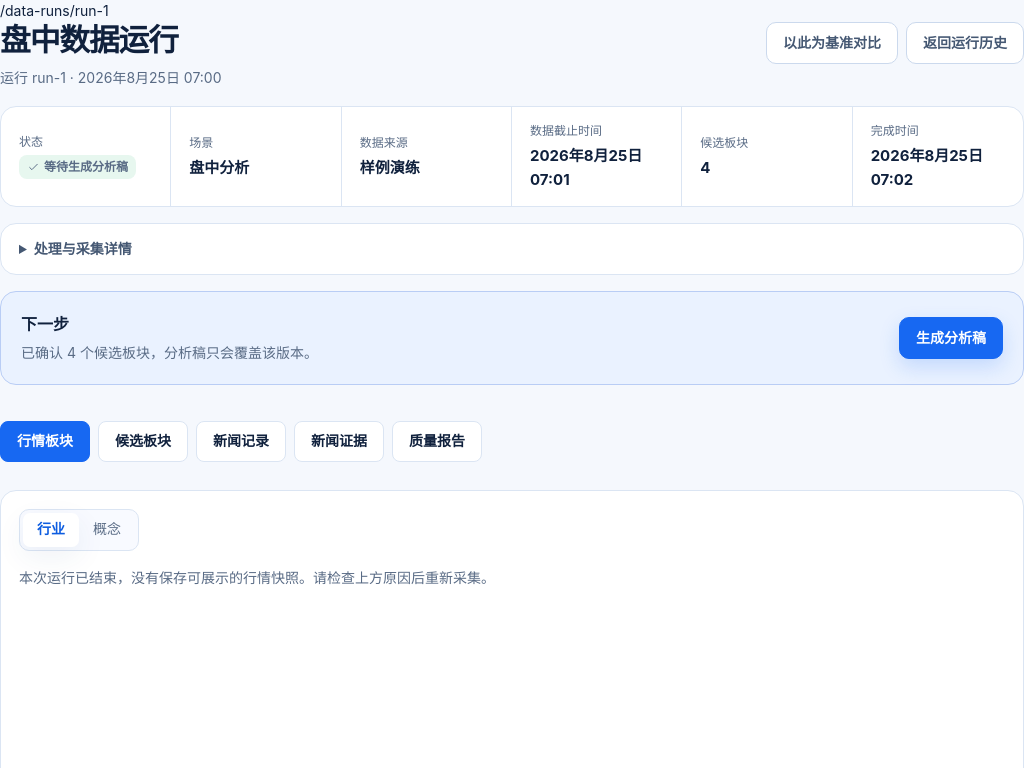
Test: requires at least three selected candidates before generation
Click the tab "候选板块" at (143, 441), box top-left (98, 421), bottom-right (188, 462)
(page scrolled)
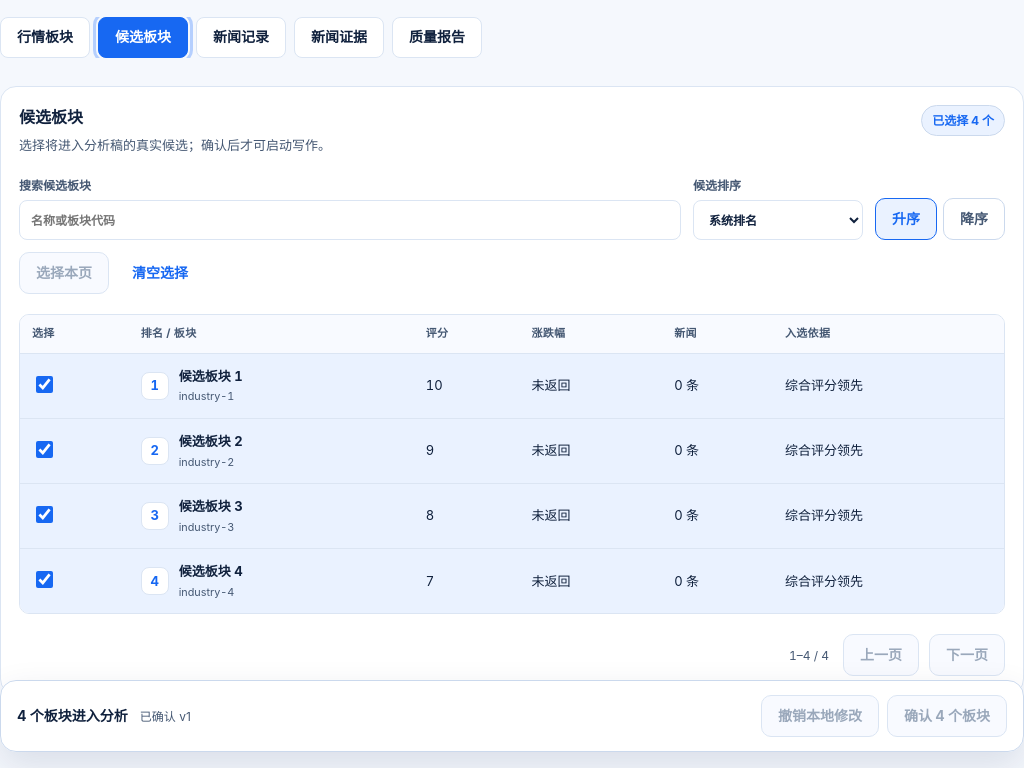
Click the checkbox named "选择候选板块 1" at (44, 384), box top-left (36, 376), bottom-right (53, 393)
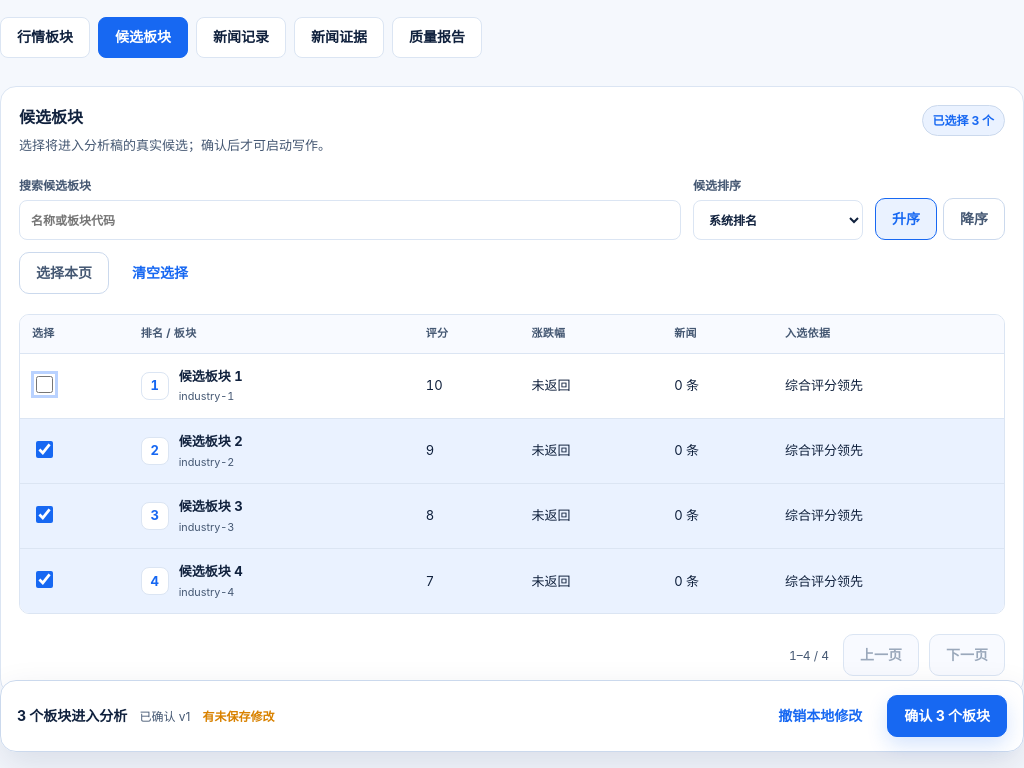
Click the checkbox named "选择候选板块 2" at (44, 450), box top-left (36, 441), bottom-right (53, 458)
(page scrolled)
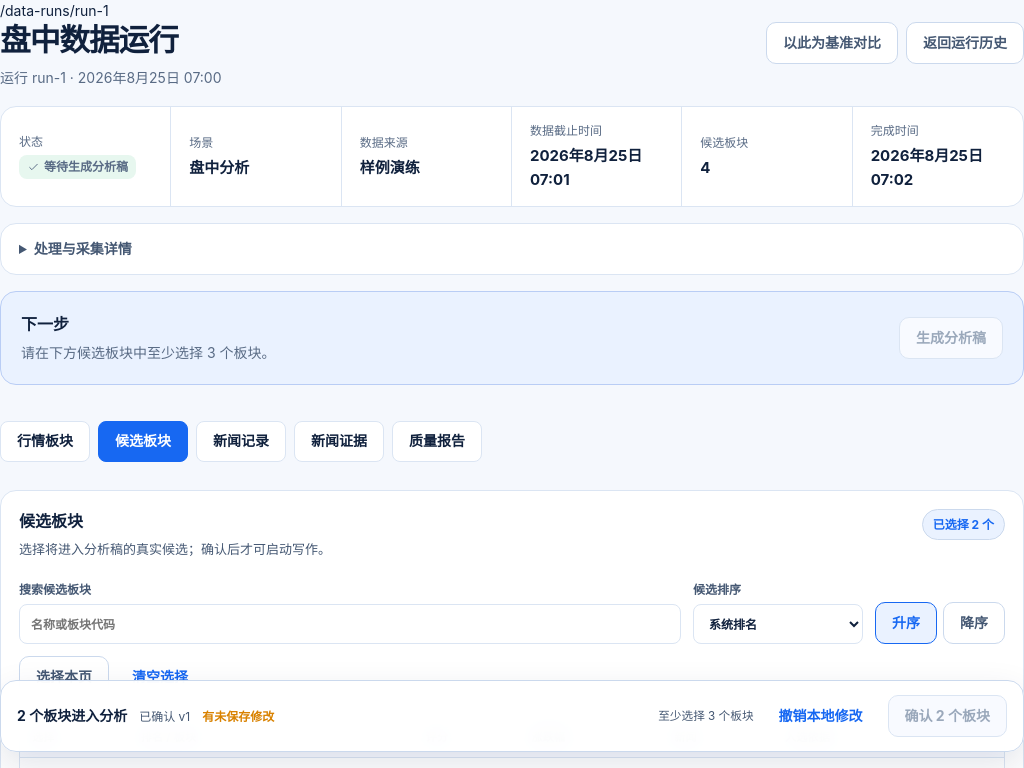
Expected: the button "生成分析稿" is disabled, top-left (899, 317), bottom-right (1003, 359)
Expected: the text "已选择 2 个" is shown, top-left (922, 509), bottom-right (1005, 540)
